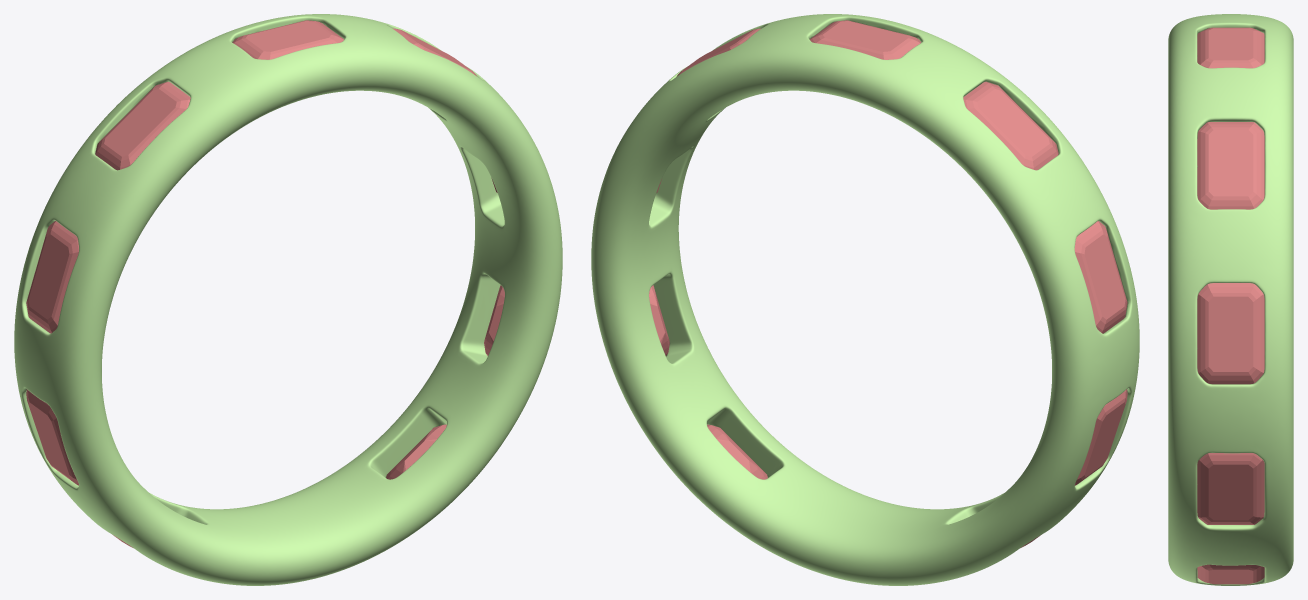
The model's file is BE2D581LC_RENDER.glb.
3 renders of one model, left to right at view 1: azimuth 30°, elevation 25°; view 2: azimuth 150°, elevation 25°; view 3: azimuth 270°, elevation 25°, orthographic. The views are drawn at different scales.
Visible parts, largest first — view 1: Metal03, Diamond_Emerald_Gem_BD.001, Diamond_Emerald_Gem_BD.002, Diamond_Emerald_Gem_BD, Diamond_Emerald_Gem_BD.003, Diamond_Emerald_Gem_BD.006; view 2: Metal03, Diamond_Emerald_Gem_BD.001, Diamond_Emerald_Gem_BD.002, Diamond_Emerald_Gem_BD, Diamond_Emerald_Gem_BD.003, Diamond_Emerald_Gem_BD.006; view 3: Metal03, Diamond_Emerald_Gem_BD.008, Diamond_Emerald_Gem_BD.009, Diamond_Emerald_Gem_BD.007, Diamond_Emerald_Gem_BD, Diamond_Emerald_Gem_BD.006.
Part boxes in pixels (<box>): Metal03: <box>14,14,562,585</box>; Diamond_Emerald_Gem_BD.001: <box>95,81,190,170</box>; Diamond_Emerald_Gem_BD.002: <box>26,221,78,333</box>; Diamond_Emerald_Gem_BD: <box>232,20,343,59</box>; Diamond_Emerald_Gem_BD.003: <box>26,389,78,485</box>; Diamond_Emerald_Gem_BD.006: <box>386,424,446,479</box>; Metal03: <box>591,14,1139,585</box>; Diamond_Emerald_Gem_BD.001: <box>963,81,1058,170</box>; Diamond_Emerald_Gem_BD.002: <box>1074,221,1127,333</box>; Diamond_Emerald_Gem_BD: <box>809,20,921,59</box>; Diamond_Emerald_Gem_BD.003: <box>1074,389,1127,485</box>; Diamond_Emerald_Gem_BD.006: <box>707,424,767,479</box>; Metal03: <box>1168,14,1293,585</box>; Diamond_Emerald_Gem_BD.008: <box>1197,283,1264,384</box>; Diamond_Emerald_Gem_BD.009: <box>1197,122,1264,209</box>; Diamond_Emerald_Gem_BD.007: <box>1197,453,1264,524</box>; Diamond_Emerald_Gem_BD: <box>1197,27,1264,68</box>; Diamond_Emerald_Gem_BD.006: <box>1197,564,1264,584</box>.
Size of the model in its own units: 20.49 by 20.27 by 4.5.
